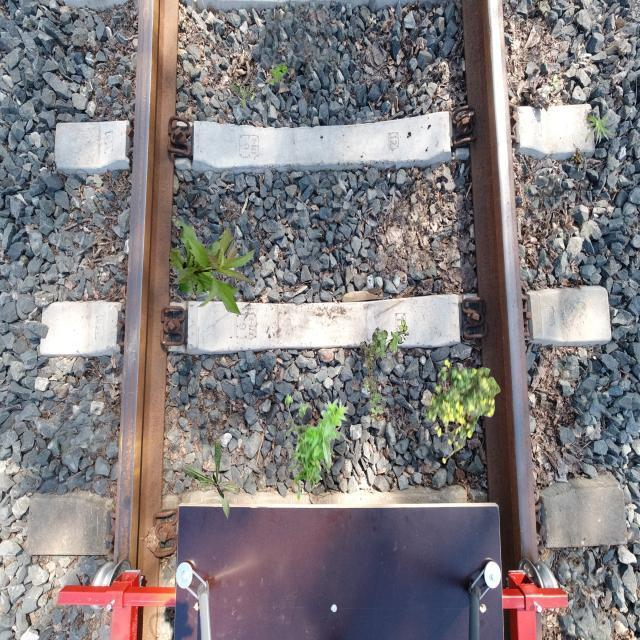Plant: (169, 218, 258, 316), (426, 359, 501, 464), (284, 393, 348, 500), (182, 439, 246, 523), (360, 320, 408, 423), (585, 112, 618, 146), (230, 77, 258, 108), (269, 61, 288, 86)
